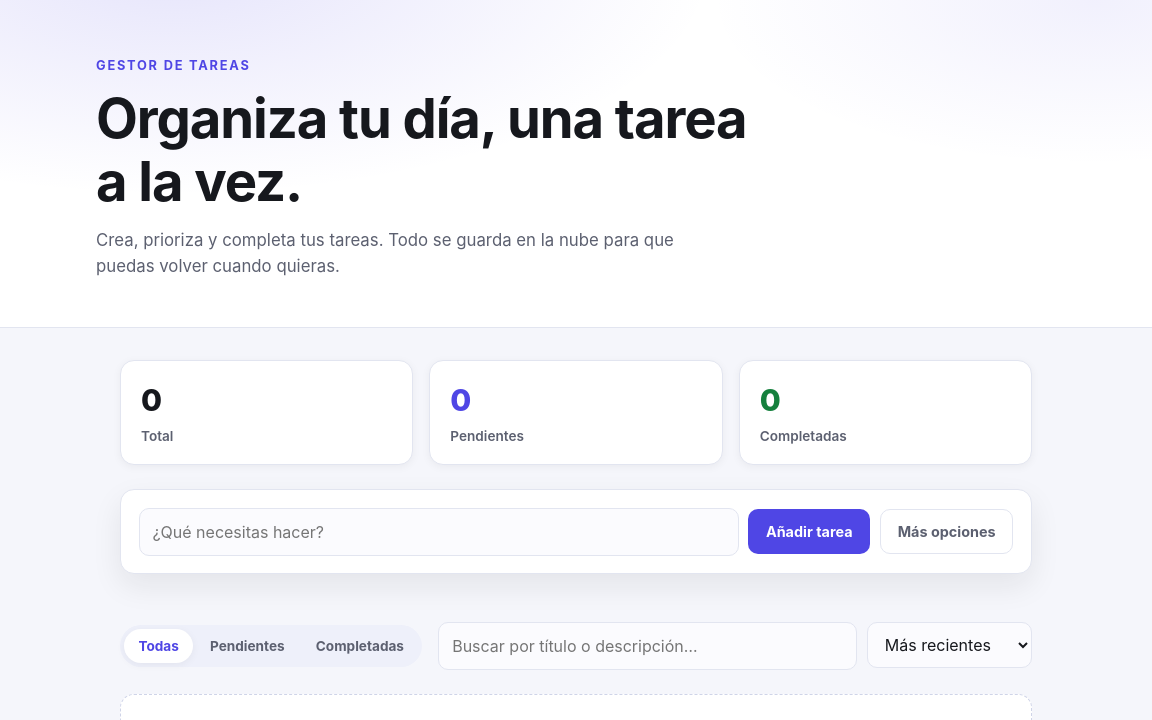
Scenario: App › validates empty titles on the client
Click the button "Añadir tarea" at (809, 532), box [748,509,870,554]
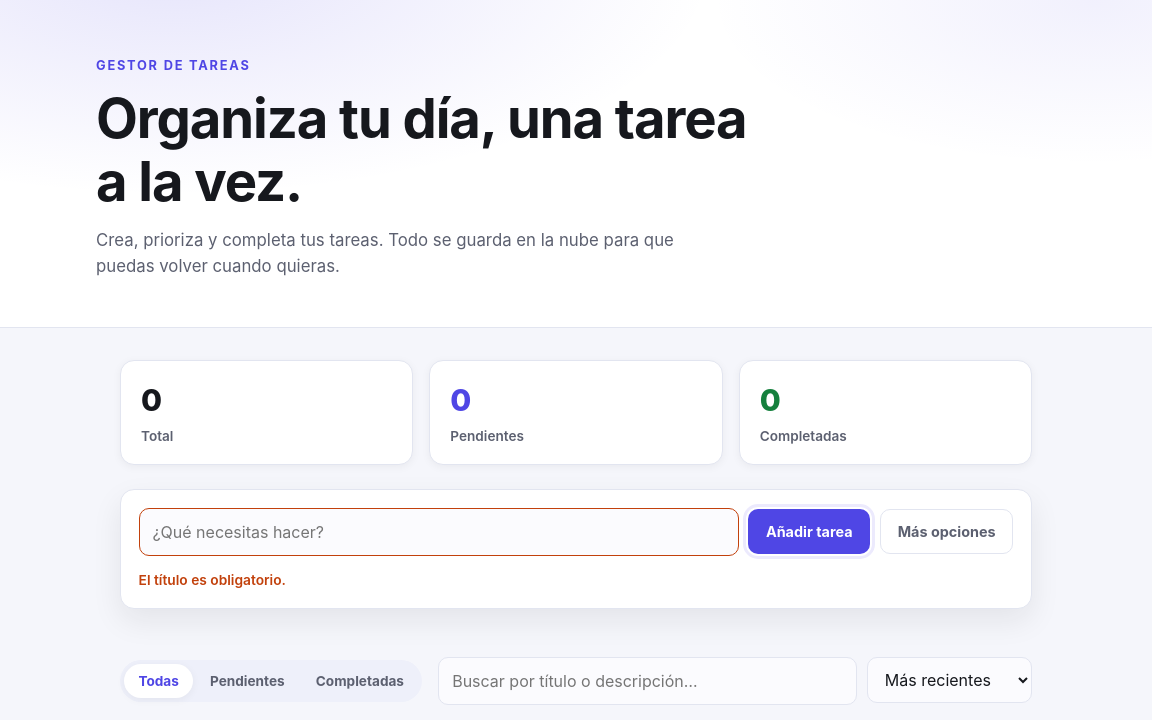
Now the text "El título es obligatorio." is shown, box [139,572,286,588]
